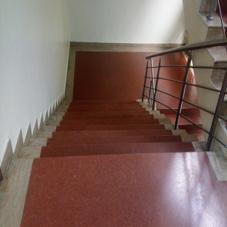Stair Down: (9, 99, 213, 164)
